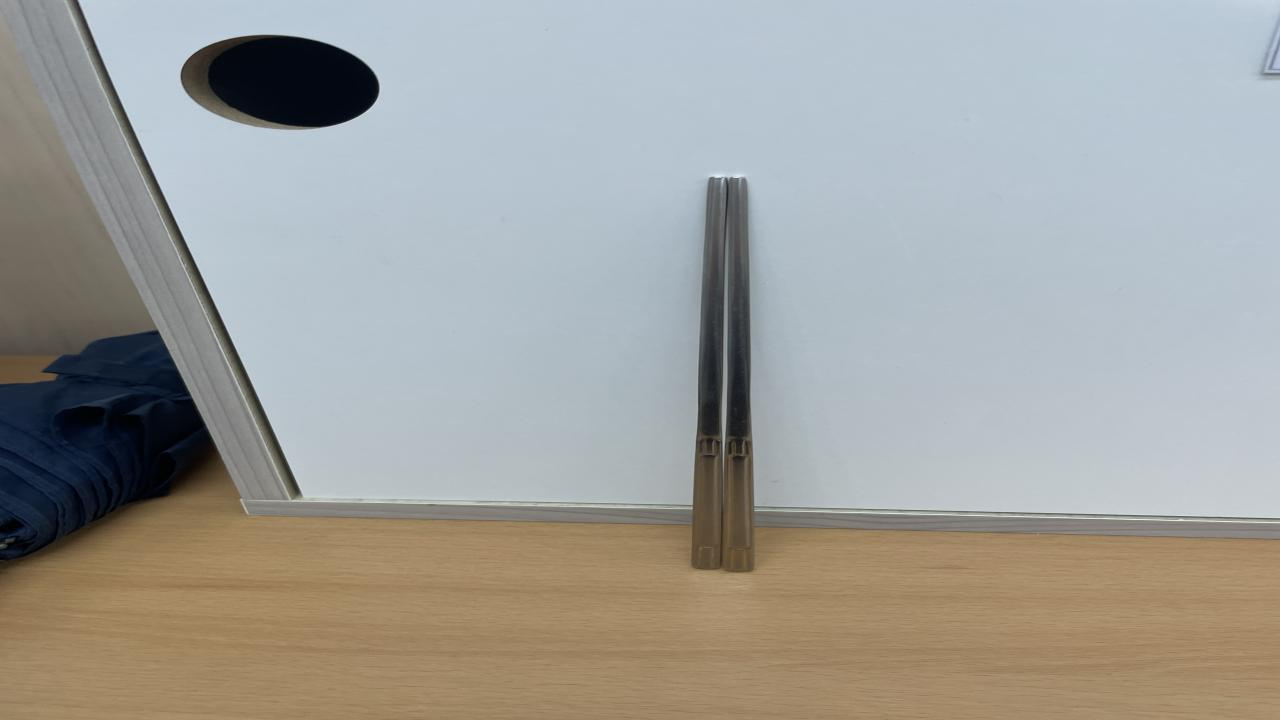chopstick: (694, 178, 754, 572)
